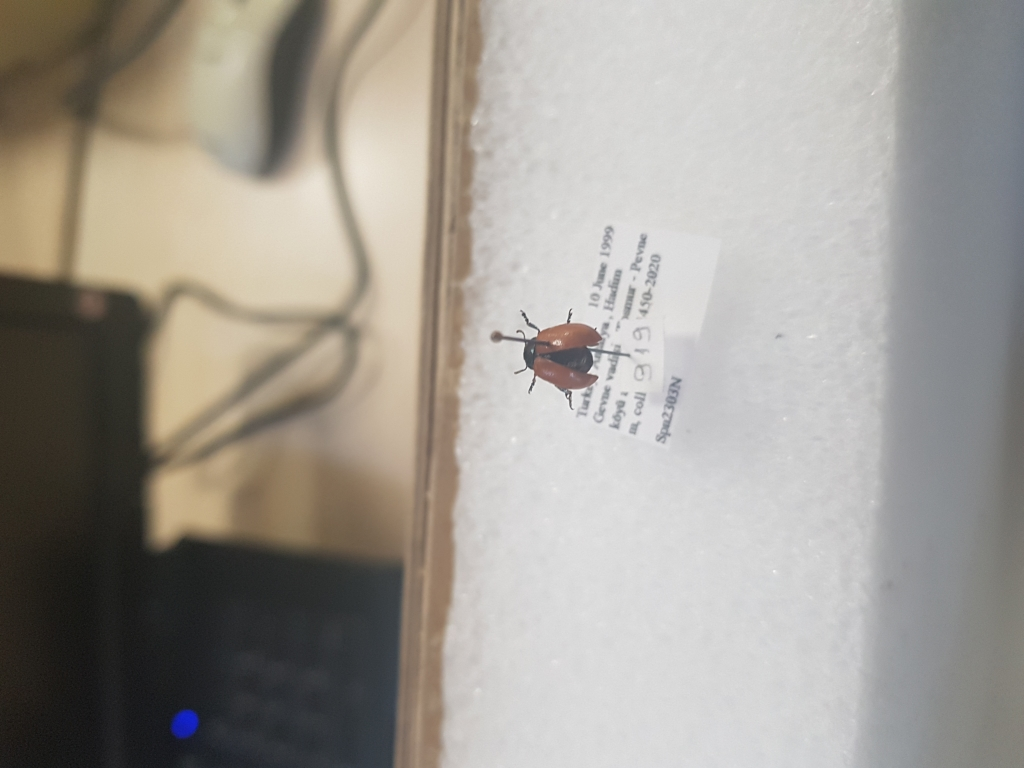Chrysomela_populi: (507, 305, 607, 415)
